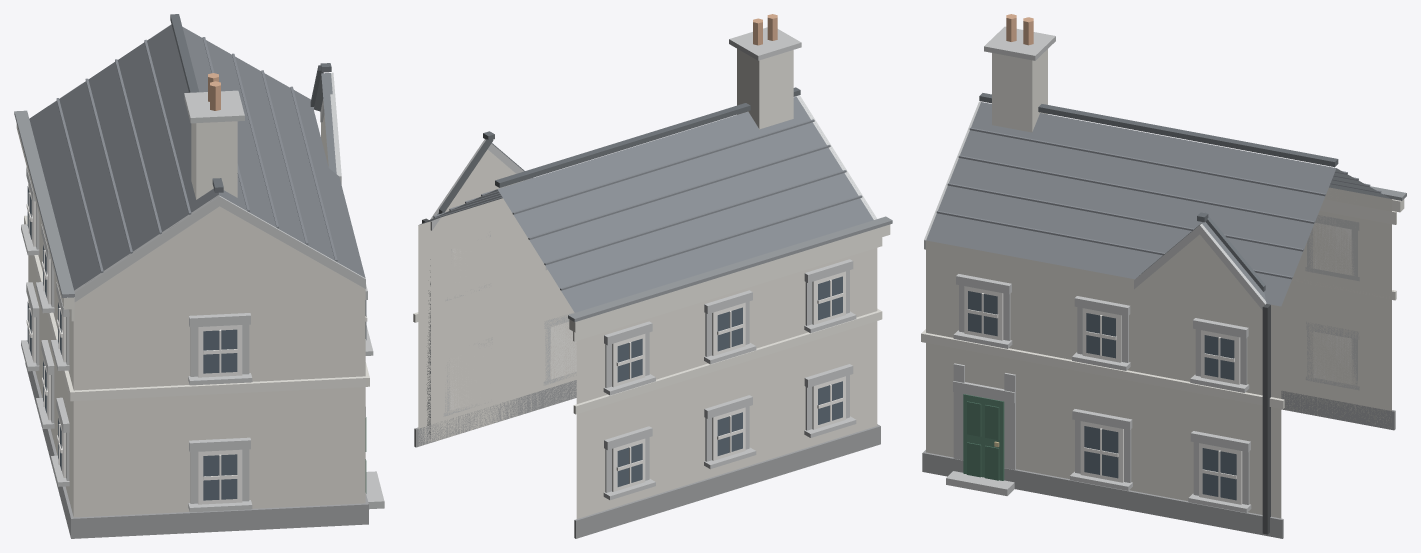
3 views of the same model, side by side, from view 1: azimuth 30°, elevation 25°; view 2: azimuth 150°, elevation 25°; view 3: azimuth 270°, elevation 25° (orthographic). The views are drawn at different scales.
Visible parts, largest first — view 1: harl_grey, slate, stone_band, plinth, slate_lt, frame, string, chim_render, lead, window_glass_006, window_glass_007, slate_dk (+1 smaller); view 2: harl_grey, slate, stone_band, string, plinth, frame, slate_lt, chim_render, slate_dk, lead, window_glass_009, window_glass_010 (+4 smaller); view 3: harl_grey, slate, stone_band, plinth, frame, string, slate_lt, chim_render, slate_dk, pipe, door_green_p, door_green (+6 smaller).
Part boxes in pixels (x1,y1,x2,y2): harl_grey: (28,114,365,517); slate: (29,24,365,290); stone_band: (21,72,384,512); plinth: (25,363,368,538); slate_lt: (56,37,337,272); frame: (26,185,367,504); string: (16,124,369,401); chim_render: (191,121,237,199); lead: (14,110,74,297); window_glass_006: (203,454,237,500); window_glass_007: (203,329,237,373); slate_dk: (170,14,331,192); harl_grey: (418,149,877,518); slate: (419,96,873,312); stone_band: (430,27,877,500); string: (413,224,890,414); plinth: (414,380,880,538); frame: (450,248,845,491); slate_lt: (433,119,862,290); chim_render: (737,49,793,129); slate_dk: (439,87,800,213); lead: (568,216,892,321); window_glass_009: (617,338,642,382); window_glass_010: (717,412,742,455); harl_grey: (926,187,1391,518); slate: (926,102,1390,306); stone_band: (924,26,1359,512); plinth: (922,390,1395,538); frame: (964,223,1351,504); string: (921,188,1404,409); slate_lt: (936,127,1381,279); chim_render: (992,49,1047,132); slate_dk: (979,93,1338,291); pipe: (1262,304,1270,534); door_green_p: (967,401,999,480); door_green: (963,394,1004,480).
Bounding box in the file's own units: 9.3 × 9.69 × 10.49.
